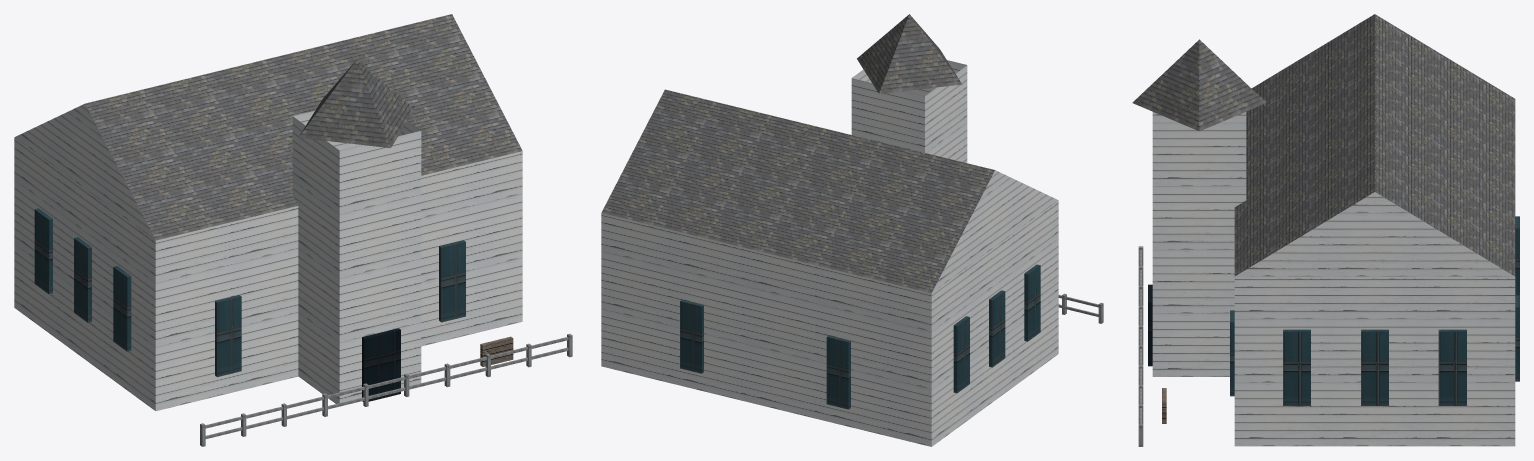
Rendered from country-church_lod0.gltf.
3 views of the same model, side by side, from view 1: azimuth 30°, elevation 25°; view 2: azimuth 150°, elevation 25°; view 3: azimuth 270°, elevation 25° (orthographic). The views are drawn at different scales.
Visible parts, largest first — view 1: country-church_nave, country-church_roof, country-church_tower, country-church_fen_07-glass-curtain-blue_0, country-church_gable_ends, country-church_spire, country-church__fence, country-church__tower_door, country-church__sign_board; view 2: country-church_nave, country-church_roof, country-church_tower, country-church_fen_07-glass-curtain-blue_0, country-church_gable_ends, country-church_spire, country-church__fence; view 3: country-church_roof, country-church_nave, country-church_tower, country-church_gable_ends, country-church_fen_07-glass-curtain-blue_0, country-church_spire, country-church__fence, country-church__tower_door.
Part boxes in pixels (<box>): country-church_nave: <box>14,137,522,410</box>; country-church_roof: <box>85,14,522,240</box>; country-church_tower: <box>292,110,421,403</box>; country-church_fen_07-glass-curtain-blue_0: <box>34,208,465,377</box>; country-church_gable_ends: <box>15,104,155,240</box>; country-church_spire: <box>298,59,415,147</box>; country-church__fence: <box>200,333,572,446</box>; country-church__tower_door: <box>362,328,400,401</box>; country-church__sign_board: <box>480,336,513,366</box>; country-church_nave: <box>601,200,1058,446</box>; country-church_roof: <box>601,89,994,293</box>; country-church_tower: <box>851,60,967,162</box>; country-church_fen_07-glass-curtain-blue_0: <box>680,264,1040,409</box>; country-church_gable_ends: <box>932,170,1058,292</box>; country-church_spire: <box>857,14,962,93</box>; country-church__fence: <box>1058,293,1103,323</box>; country-church_roof: <box>1234,14,1515,276</box>; country-church_nave: <box>1234,276,1515,446</box>; country-church_tower: <box>1152,112,1246,376</box>; country-church_gable_ends: <box>1235,192,1514,276</box>; country-church_fen_07-glass-curtain-blue_0: <box>1230,216,1519,405</box>; country-church_spire: <box>1132,39,1266,131</box>; country-church__fence: <box>1138,246,1143,446</box>; country-church__tower_door: <box>1148,284,1152,366</box>.
Size of the model in its own units: 18.4 by 15 by 16.58.
